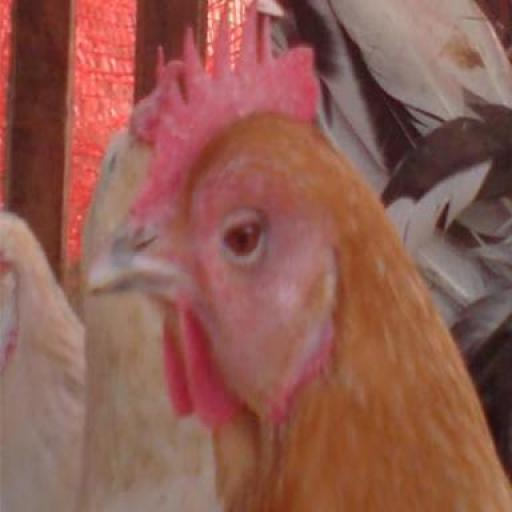disease: (182, 145, 362, 373)
